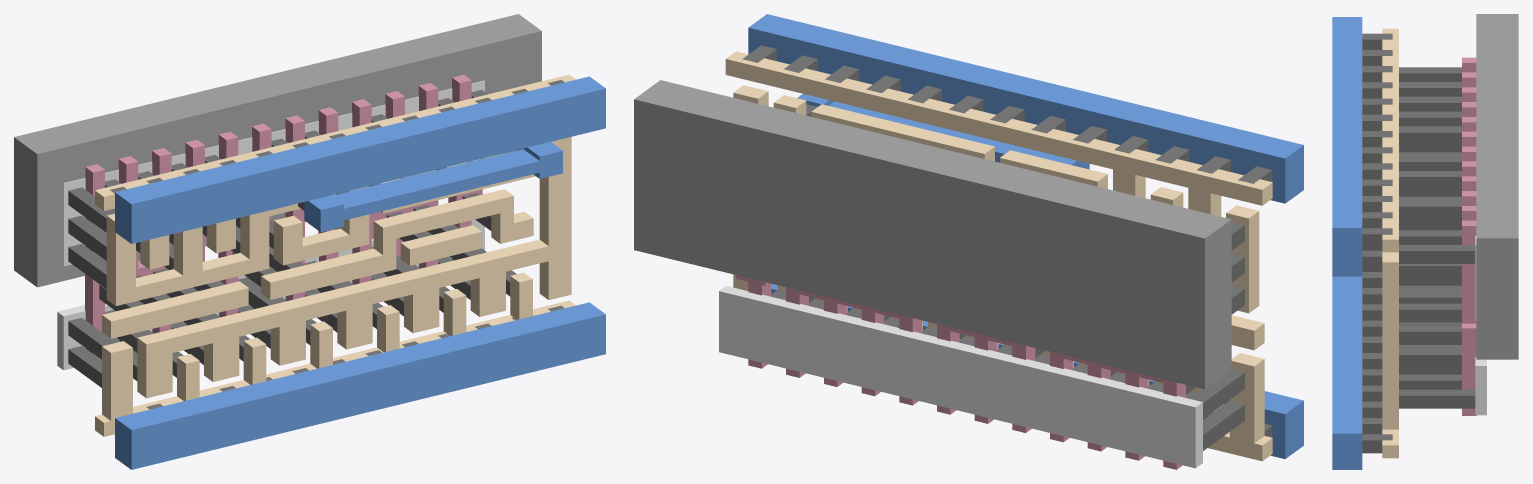
The model's file is sky130_fd_sc_hd__nor3_4.gds.gltf.
3 views of the same model, side by side, from view 1: azimuth 30°, elevation 25°; view 2: azimuth 150°, elevation 25°; view 3: azimuth 270°, elevation 25° (orthographic). The views are drawn at different scales.
Parts seen in each view (by area): view 1: sky130_fd_sc_hd__nor3_4_li1, sky130_fd_sc_hd__nor3_4_met1, sky130_fd_sc_hd__nor3_4_nwell, sky130_fd_sc_hd__nor3_4_licon, sky130_fd_sc_hd__nor3_4_poly, sky130_fd_sc_hd__nor3_4_diff, sky130_fd_sc_hd__nor3_4_mcon; view 2: sky130_fd_sc_hd__nor3_4_nwell, sky130_fd_sc_hd__nor3_4_diff, sky130_fd_sc_hd__nor3_4_li1, sky130_fd_sc_hd__nor3_4_met1, sky130_fd_sc_hd__nor3_4_poly, sky130_fd_sc_hd__nor3_4_mcon, sky130_fd_sc_hd__nor3_4_licon; view 3: sky130_fd_sc_hd__nor3_4_licon, sky130_fd_sc_hd__nor3_4_nwell, sky130_fd_sc_hd__nor3_4_met1, sky130_fd_sc_hd__nor3_4_mcon, sky130_fd_sc_hd__nor3_4_li1, sky130_fd_sc_hd__nor3_4_poly, sky130_fd_sc_hd__nor3_4_diff.
Part boxes in pixels (<box>): sky130_fd_sc_hd__nor3_4_li1: <box>95,74,575,436</box>; sky130_fd_sc_hd__nor3_4_met1: <box>115,76,605,469</box>; sky130_fd_sc_hd__nor3_4_nwell: <box>14,14,541,287</box>; sky130_fd_sc_hd__nor3_4_licon: <box>68,89,516,387</box>; sky130_fd_sc_hd__nor3_4_poly: <box>85,74,482,360</box>; sky130_fd_sc_hd__nor3_4_diff: <box>57,80,484,370</box>; sky130_fd_sc_hd__nor3_4_mcon: <box>110,80,564,409</box>; sky130_fd_sc_hd__nor3_4_nwell: <box>634,80,1231,389</box>; sky130_fd_sc_hd__nor3_4_diff: <box>719,286,1202,468</box>; sky130_fd_sc_hd__nor3_4_li1: <box>725,51,1272,461</box>; sky130_fd_sc_hd__nor3_4_met1: <box>748,14,1303,458</box>; sky130_fd_sc_hd__nor3_4_poly: <box>736,275,1185,469</box>; sky130_fd_sc_hd__nor3_4_mcon: <box>742,45,1272,437</box>; sky130_fd_sc_hd__nor3_4_licon: <box>771,222,1244,450</box>; sky130_fd_sc_hd__nor3_4_licon: <box>1399,67,1475,408</box>; sky130_fd_sc_hd__nor3_4_nwell: <box>1476,14,1518,359</box>; sky130_fd_sc_hd__nor3_4_met1: <box>1332,17,1362,469</box>; sky130_fd_sc_hd__nor3_4_mcon: <box>1362,33,1392,453</box>; sky130_fd_sc_hd__nor3_4_li1: <box>1382,28,1398,458</box>; sky130_fd_sc_hd__nor3_4_poly: <box>1462,57,1476,415</box>; sky130_fd_sc_hd__nor3_4_diff: <box>1475,235,1486,415</box>.
Bounding box in the file's own units: 6.36 × 3.2 × 2.24.
